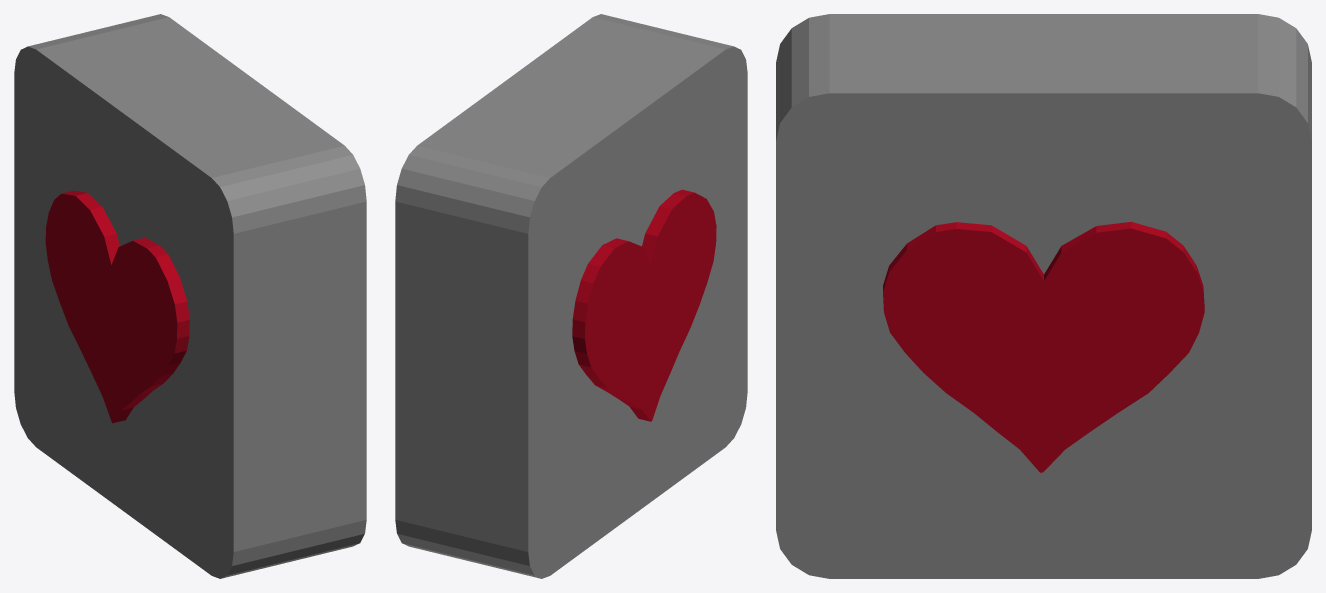
The model's file is Health.fbx.
The picture shows the model from 3 angles, left to right: view 1: azimuth 30°, elevation 25°; view 2: azimuth 150°, elevation 25°; view 3: azimuth 270°, elevation 25°; orthographic projection. The views are drawn at different scales.
Visible parts, largest first — view 1: Cube.001, Cube.002; view 2: Cube.001, Cube.002; view 3: Cube.001, Cube.007.
Boxes of the visible parts, bbox=[...] form: Cube.001: bbox=[14, 14, 366, 578]; Cube.002: bbox=[45, 190, 189, 423]; Cube.001: bbox=[395, 14, 747, 578]; Cube.002: bbox=[572, 189, 716, 421]; Cube.001: bbox=[776, 14, 1311, 578]; Cube.007: bbox=[883, 221, 1204, 472].
Bounding box in the file's own units: 35.54 × 86.1 × 86.1.
